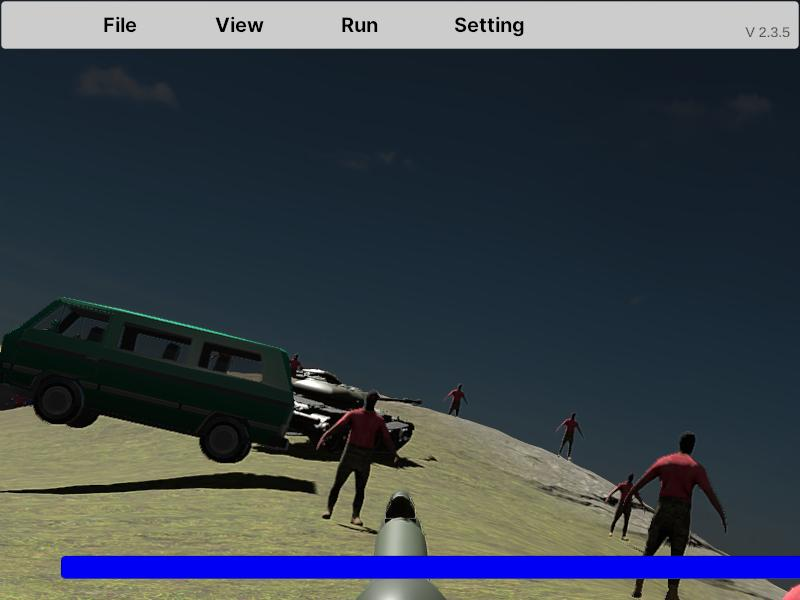Human: (620, 430, 726, 599), (316, 389, 398, 527)
Tank: (248, 367, 422, 457)
car: (0, 299, 299, 463)
